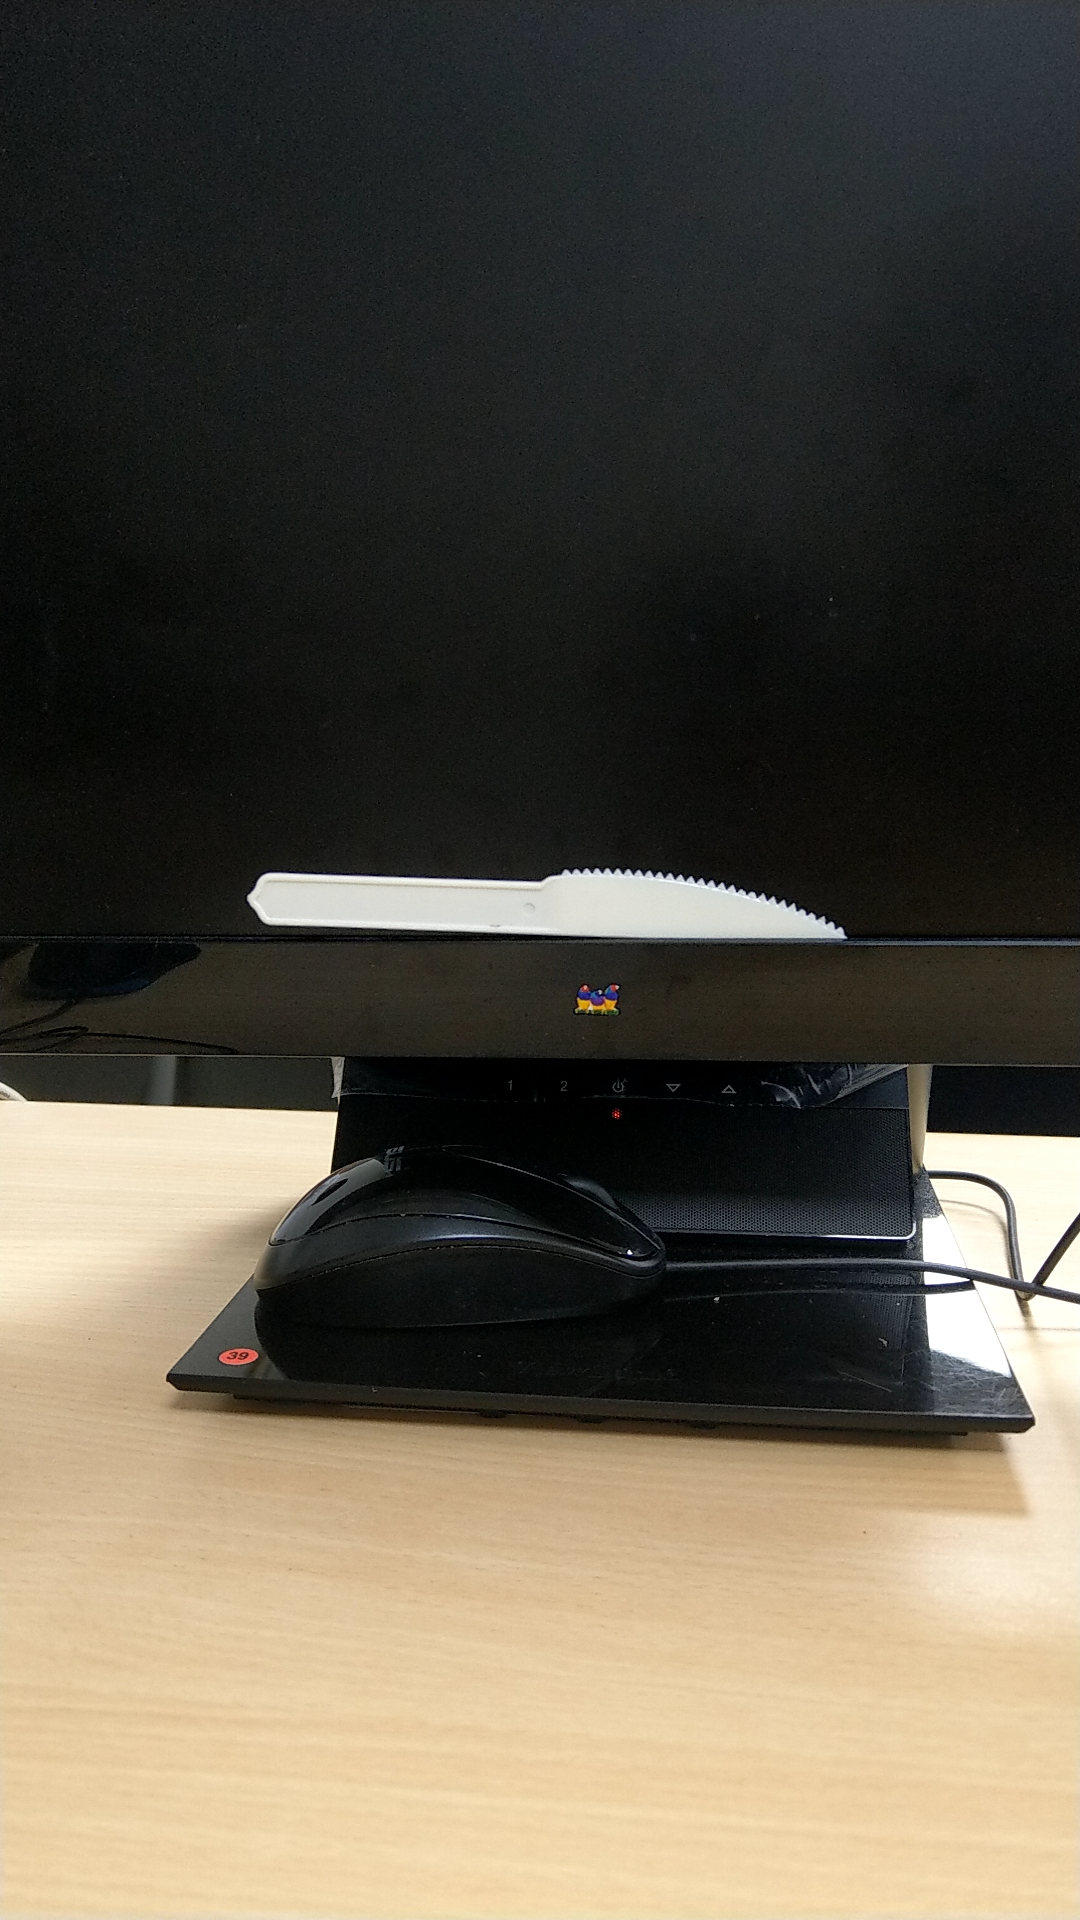knife: (216, 847, 862, 968)
